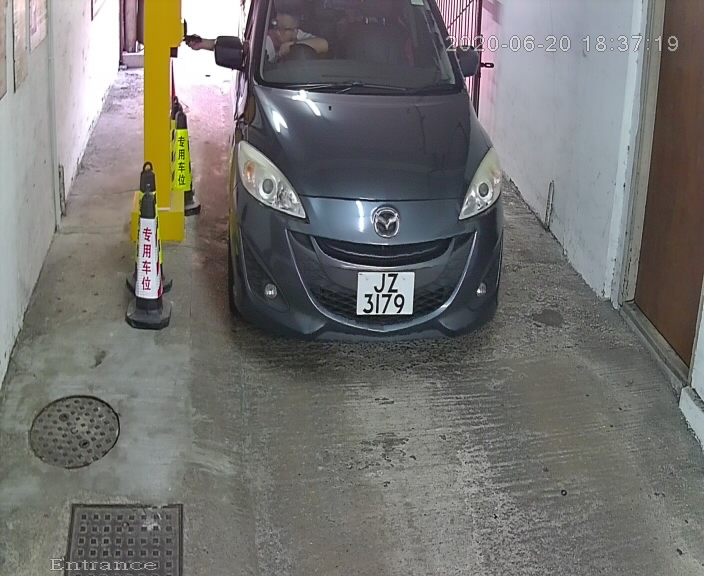privatecar: (201, 1, 535, 361)
